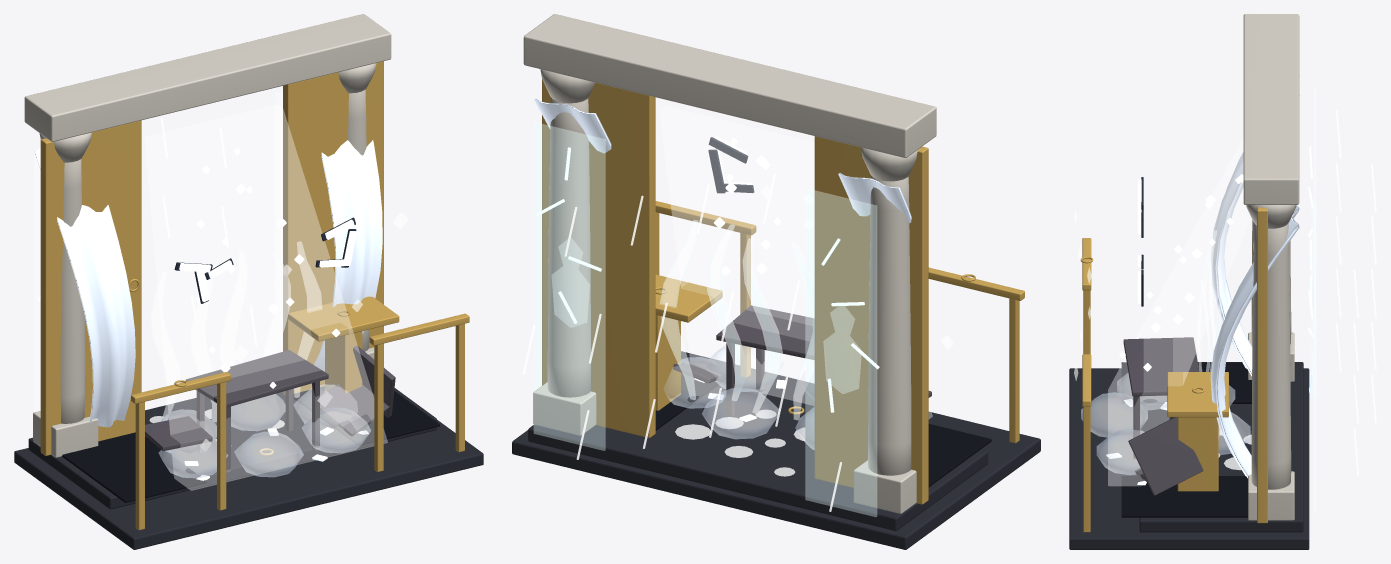
The model's file is webtoon-dust-fissure-drift-plume-v27.glb.
3 renders of one model, left to right at view 1: azimuth 30°, elevation 25°; view 2: azimuth 150°, elevation 25°; view 3: azimuth 270°, elevation 25°, orthographic. The views are drawn at different scales.
Parts seen in each view (by area): view 1: Volumetric_V27Stage2_FissureDust_GodRaySlit, Articulated_V27Stage2_FissureDust_DoorsAndIkRig, V27Stage2_FissureDust_DatumDeck, V27Stage2_FissureDust_PortalColonnade, WindDrape_V27Stage2_FissureDust_CatenaryPair, Aftermath_V27Stage2_FissureDust_DatumProps, AftermathDust_V27Stage2_FissureDust_PlumeLobes, ShadowDrift_V27Stage2_FissureDust_UmbraMask, ThermalHaze_V27Stage2_FissureDust_ConvectiveRibbons, HalfMirror_V27Stage2_FissureDust_FresnelReflection, ZDepthSFX_V27Stage2_FissureDust_GlyphCore, Atmospheric_V27Stage2_FissureDust_MidMotes (+2 smaller); view 2: Articulated_V27Stage2_FissureDust_DoorsAndIkRig, V27Stage2_FissureDust_PortalColonnade, HalfMirror_V27Stage2_FissureDust_FresnelReflection, V27Stage2_FissureDust_DatumDeck, Volumetric_V27Stage2_FissureDust_GodRaySlit, ThermalHaze_V27Stage2_FissureDust_ConvectiveRibbons, AftermathDust_V27Stage2_FissureDust_PlumeLobes, Aftermath_V27Stage2_FissureDust_DatumProps, ShadowDrift_V27Stage2_FissureDust_UmbraMask, WindDrape_V27Stage2_FissureDust_CatenaryPair, Weather_V27Stage2_FissureDust_ExteriorOccluded, Weather_V27Stage2_FissureDust_IndoorWetRipples (+3 smaller); view 3: V27Stage2_FissureDust_PortalColonnade, V27Stage2_FissureDust_DatumDeck, Volumetric_V27Stage2_FissureDust_GodRaySlit, Articulated_V27Stage2_FissureDust_DoorsAndIkRig, Aftermath_V27Stage2_FissureDust_DatumProps, WindDrape_V27Stage2_FissureDust_CatenaryPair, ShadowDrift_V27Stage2_FissureDust_UmbraMask, AftermathDust_V27Stage2_FissureDust_PlumeLobes, Weather_V27Stage2_FissureDust_ExteriorOccluded, HalfMirror_V27Stage2_FissureDust_FresnelReflection, ThermalHaze_V27Stage2_FissureDust_ConvectiveRibbons, Atmospheric_V27Stage2_FissureDust_MidMotes (+2 smaller).
Boxes of the visible parts, bbox=[...] form: Volumetric_V27Stage2_FissureDust_GodRaySlit: bbox=[145, 105, 387, 490]; Articulated_V27Stage2_FissureDust_DoorsAndIkRig: bbox=[40, 61, 469, 530]; V27Stage2_FissureDust_DatumDeck: bbox=[14, 388, 483, 549]; V27Stage2_FissureDust_PortalColonnade: bbox=[24, 14, 391, 457]; WindDrape_V27Stage2_FissureDust_CatenaryPair: bbox=[34, 140, 382, 427]; Aftermath_V27Stage2_FissureDust_DatumProps: bbox=[145, 345, 395, 472]; AftermathDust_V27Stage2_FissureDust_PlumeLobes: bbox=[158, 384, 370, 477]; ShadowDrift_V27Stage2_FissureDust_UmbraMask: bbox=[62, 386, 439, 502]; ThermalHaze_V27Stage2_FissureDust_ConvectiveRibbons: bbox=[151, 241, 321, 421]; HalfMirror_V27Stage2_FissureDust_FresnelReflection: bbox=[33, 91, 282, 412]; ZDepthSFX_V27Stage2_FissureDust_GlyphCore: bbox=[179, 219, 356, 302]; Atmospheric_V27Stage2_FissureDust_MidMotes: bbox=[196, 148, 340, 388]; Articulated_V27Stage2_FissureDust_DoorsAndIkRig: bbox=[542, 79, 1024, 504]; V27Stage2_FissureDust_PortalColonnade: bbox=[523, 14, 936, 513]; HalfMirror_V27Stage2_FissureDust_FresnelReflection: bbox=[534, 122, 876, 516]; V27Stage2_FissureDust_DatumDeck: bbox=[512, 351, 1040, 549]; Volumetric_V27Stage2_FissureDust_GodRaySlit: bbox=[659, 106, 932, 418]; ThermalHaze_V27Stage2_FissureDust_ConvectiveRibbons: bbox=[659, 220, 814, 420]; AftermathDust_V27Stage2_FissureDust_PlumeLobes: bbox=[663, 345, 814, 449]; Aftermath_V27Stage2_FissureDust_DatumProps: bbox=[673, 305, 931, 416]; ShadowDrift_V27Stage2_FissureDust_UmbraMask: bbox=[655, 372, 991, 487]; WindDrape_V27Stage2_FissureDust_CatenaryPair: bbox=[534, 99, 911, 223]; Weather_V27Stage2_FissureDust_ExteriorOccluded: bbox=[522, 173, 841, 511]; Weather_V27Stage2_FissureDust_IndoorWetRipples: bbox=[675, 410, 804, 476]; V27Stage2_FissureDust_PortalColonnade: bbox=[1243, 14, 1299, 520]; V27Stage2_FissureDust_DatumDeck: bbox=[1069, 362, 1309, 549]; Volumetric_V27Stage2_FissureDust_GodRaySlit: bbox=[1108, 137, 1250, 485]; Articulated_V27Stage2_FissureDust_DoorsAndIkRig: bbox=[1080, 207, 1267, 532]; Aftermath_V27Stage2_FissureDust_DatumProps: bbox=[1123, 337, 1203, 495]; WindDrape_V27Stage2_FissureDust_CatenaryPair: bbox=[1210, 76, 1299, 478]; ShadowDrift_V27Stage2_FissureDust_UmbraMask: bbox=[1121, 362, 1251, 517]; AftermathDust_V27Stage2_FissureDust_PlumeLobes: bbox=[1081, 373, 1250, 474]; Weather_V27Stage2_FissureDust_ExteriorOccluded: bbox=[1336, 110, 1376, 476]; HalfMirror_V27Stage2_FissureDust_FresnelReflection: bbox=[1310, 89, 1316, 512]; ThermalHaze_V27Stage2_FissureDust_ConvectiveRibbons: bbox=[1197, 230, 1222, 438]; Atmospheric_V27Stage2_FissureDust_MidMotes: bbox=[1119, 174, 1243, 371].
Size of the model in its own units: 2.76 by 2.78 by 2.1.
